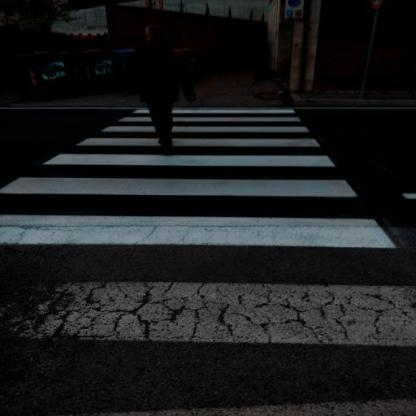crosswalk: (1, 206, 415, 354), (34, 133, 354, 173)
